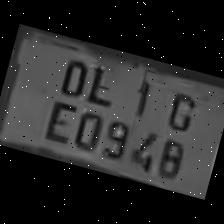0: (66, 102, 108, 154)
1: (120, 64, 164, 120)
4: (124, 122, 162, 172)
8: (150, 132, 190, 183)
9: (94, 112, 134, 163)
D: (52, 51, 94, 100)
E: (38, 94, 80, 147)
G: (158, 83, 202, 134)
L: (81, 56, 122, 107)
